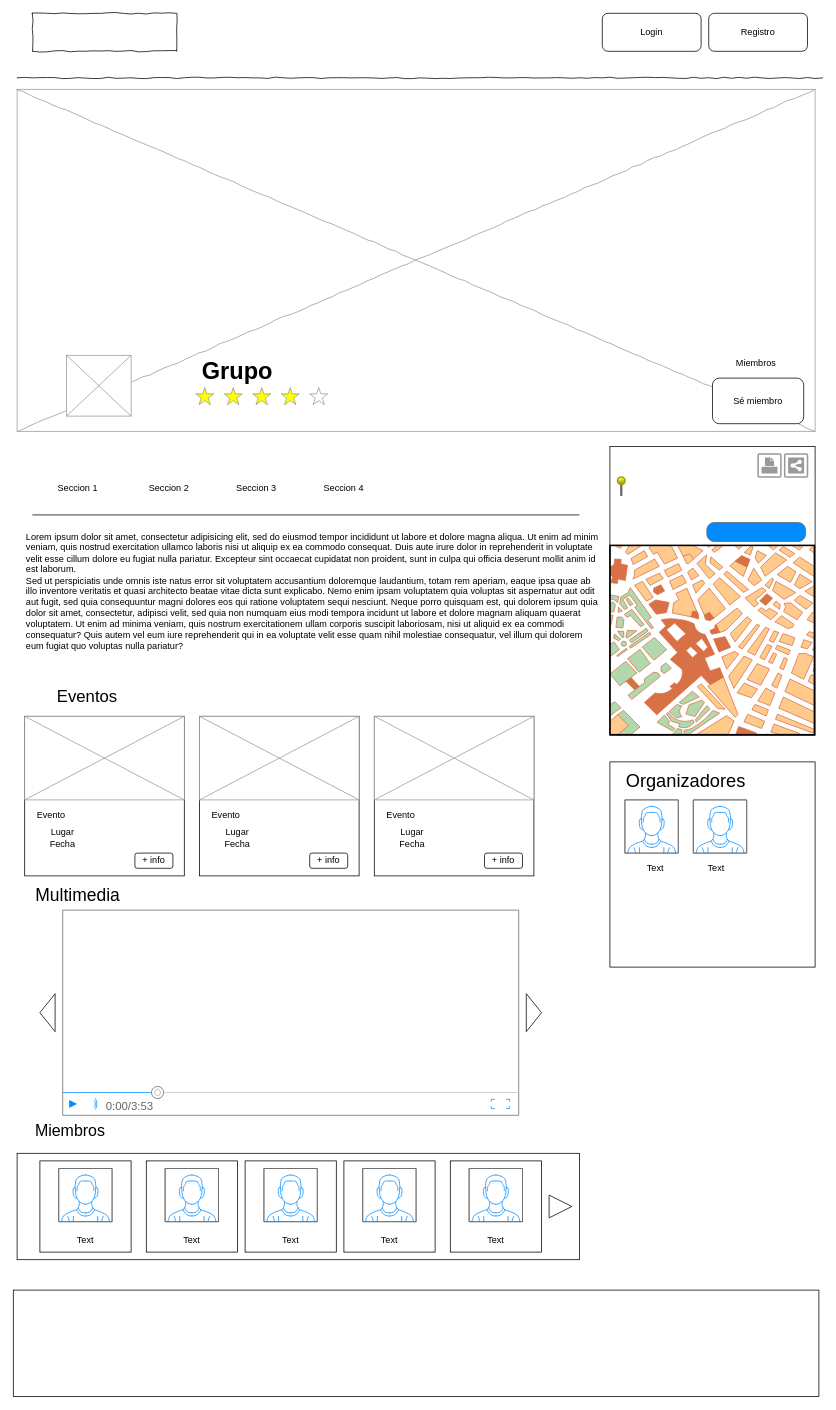
The diagram is 836 pixels wide and 1410 high, and some of its shapes have lost their labels. Each missing label, with the centre of its shape:
Footer: the point at 416,1342
LOGO: the point at 104,32
RRSS: the point at 756,532
